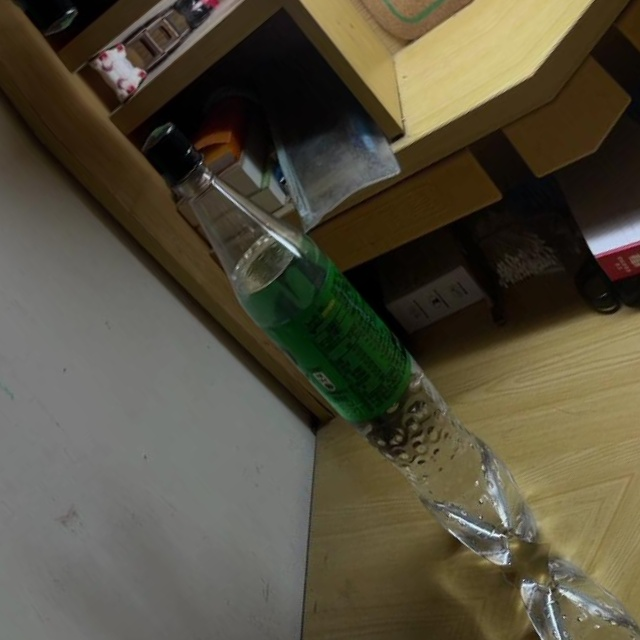Sprite: (120, 95, 562, 593)
